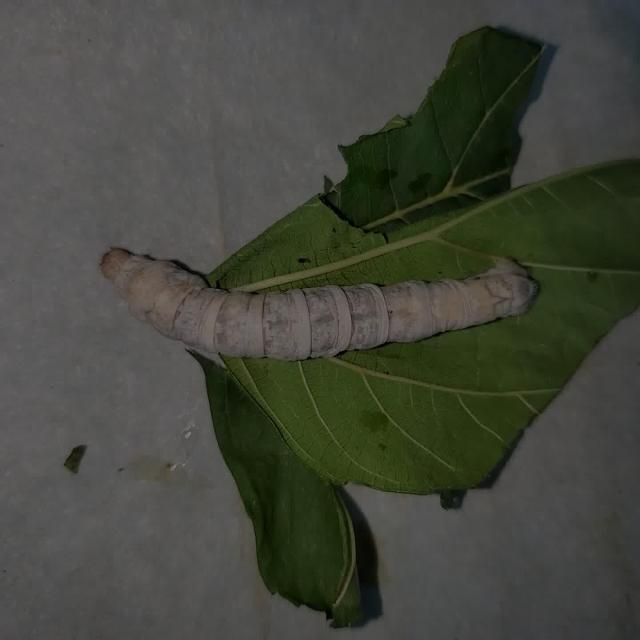Grasserie: (68, 175, 556, 392)
